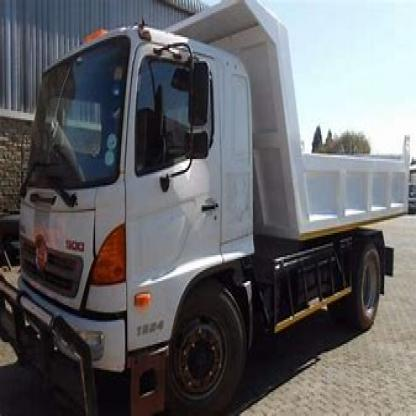dump_truck: (2, 0, 410, 414)
